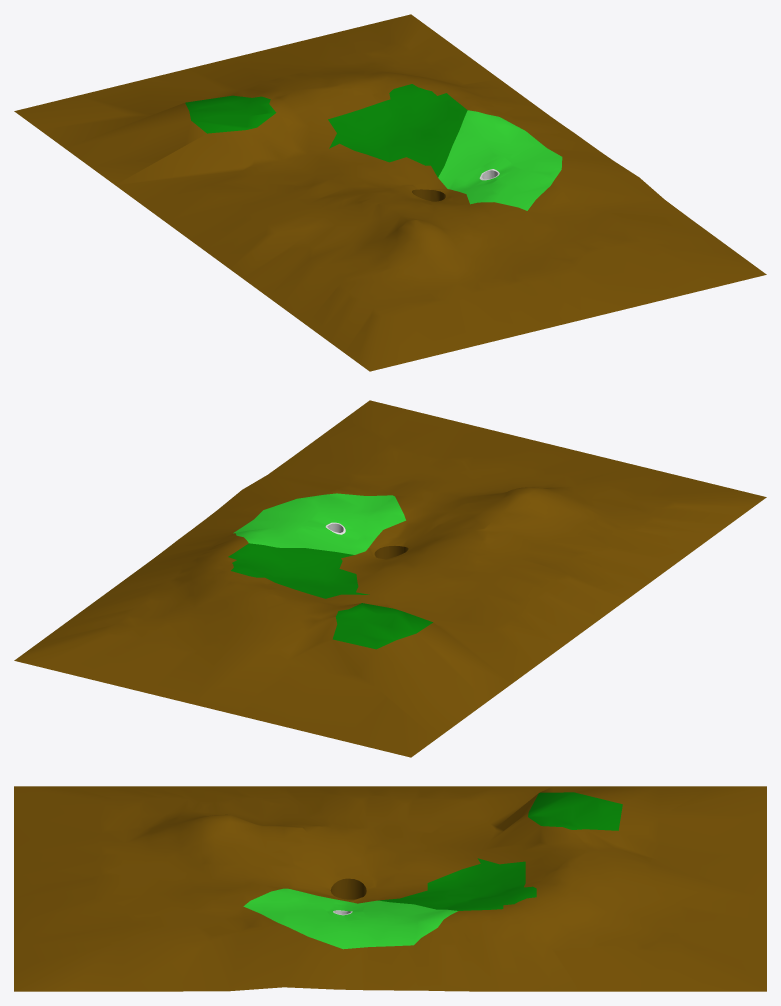
Rendered from Hole011.fbx.
3 renders of one model, top to bottom at view 1: azimuth 30°, elevation 25°; view 2: azimuth 150°, elevation 25°; view 3: azimuth 270°, elevation 25°, orthographic. The views are drawn at different scales.
Visible parts, largest first — view 1: nurbsToPoly8; view 2: nurbsToPoly8; view 3: nurbsToPoly8.
Part boxes in pixels (box(x1,y1,x2,y2)): nurbsToPoly8: box(14, 14, 766, 371); nurbsToPoly8: box(14, 400, 766, 757); nurbsToPoly8: box(14, 786, 766, 991).
Size of the model in its own units: 321 by 46.53 by 498.
